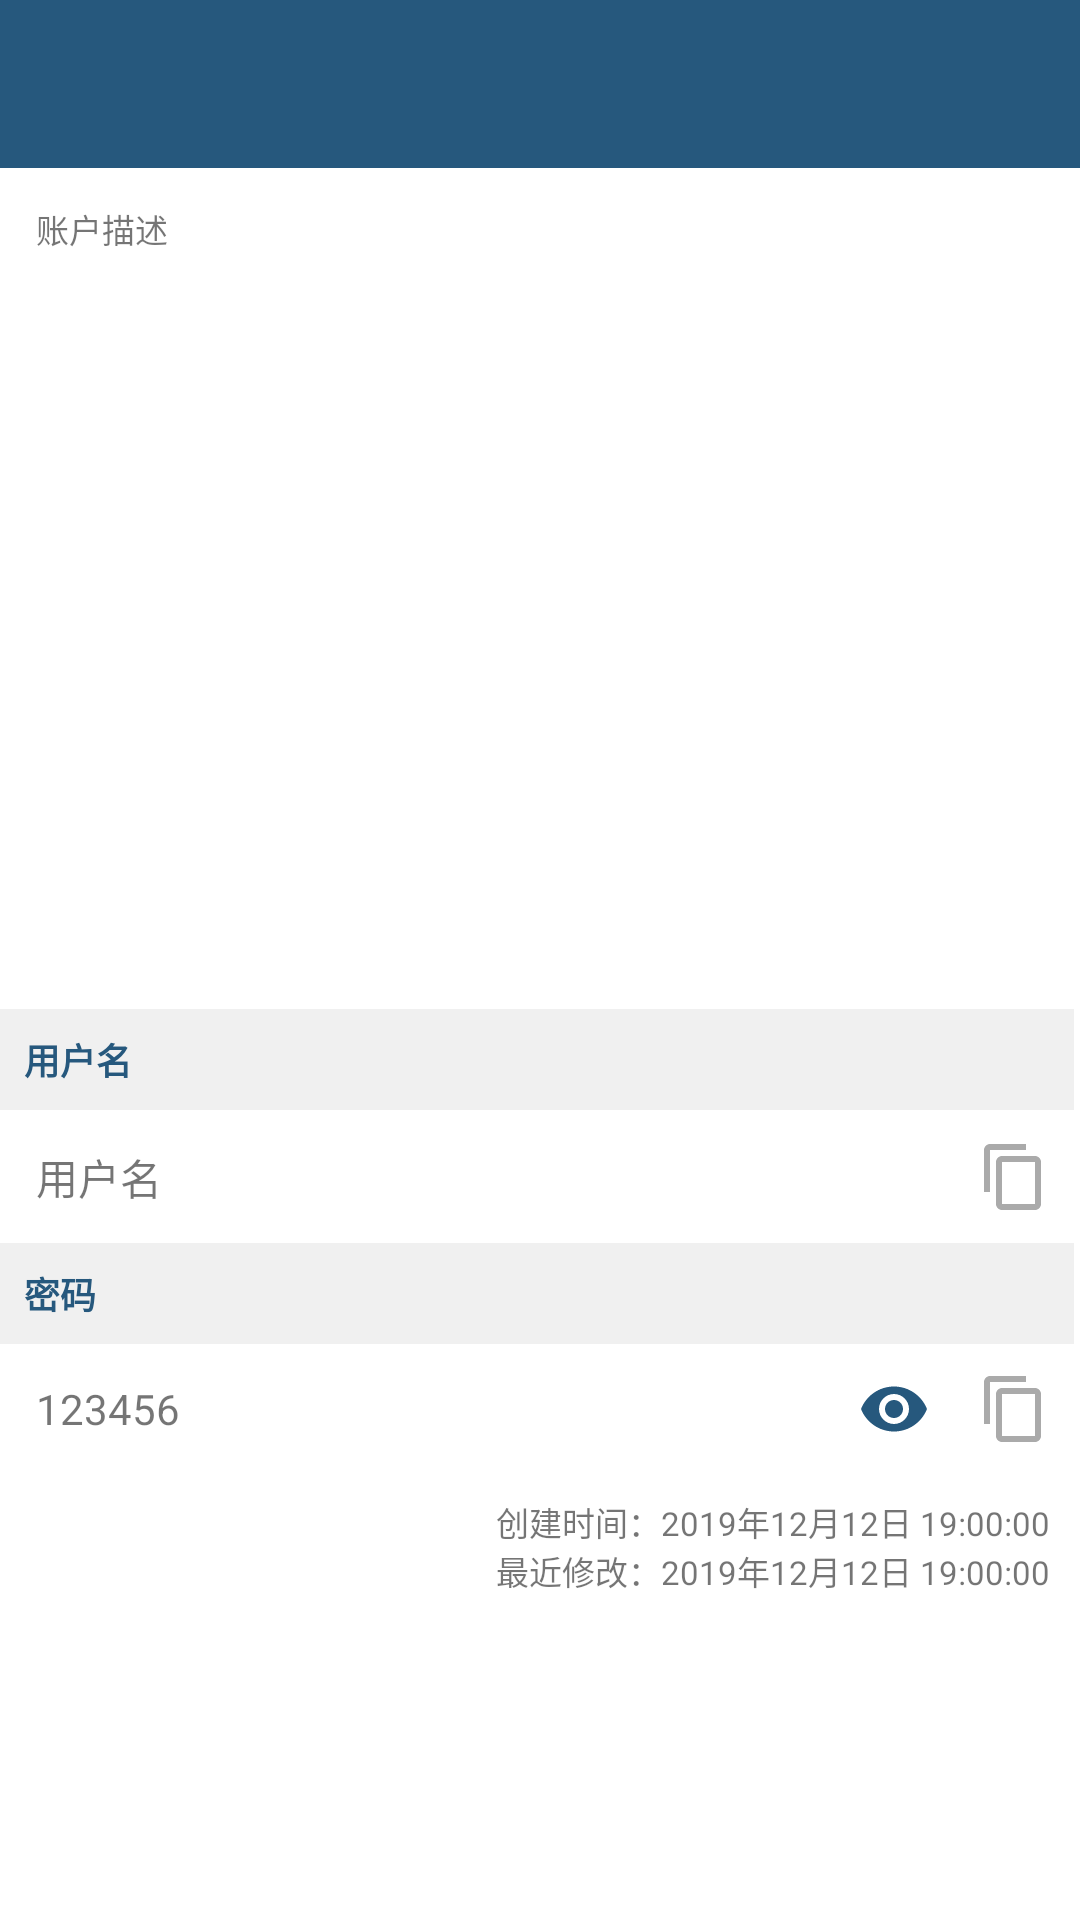

Screen size 1080*1920. Icon name, then its box in pixels as (x1, y1, x2, y2):
eye: (861, 1386, 927, 1432)
